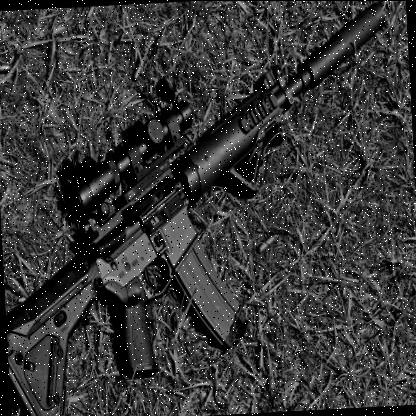rifle: (0, 3, 413, 416)
